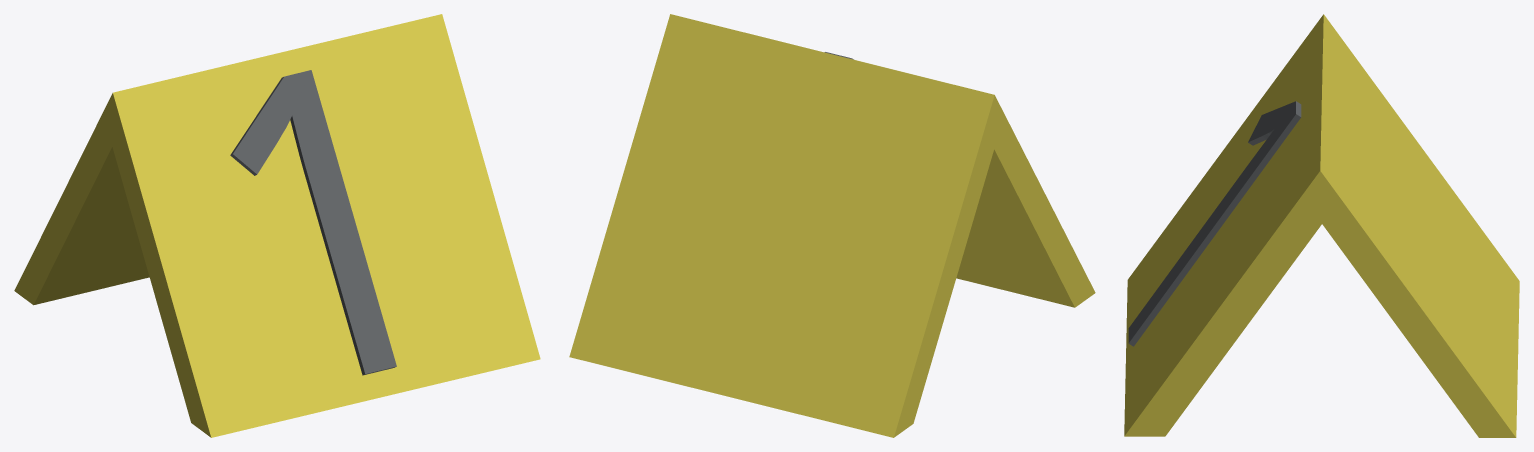
The model's file is bord1.gltf.
3 views of the same model, side by side, from view 1: azimuth 30°, elevation 25°; view 2: azimuth 150°, elevation 25°; view 3: azimuth 270°, elevation 25° (orthographic).
Parts seen in each view (by area): view 1: Mesh_Mesh_head_geo.001_lambert2SG.001; view 2: Mesh_Mesh_head_geo.001_lambert2SG.001; view 3: Mesh_Mesh_head_geo.001_lambert2SG.001.
Part boxes in pixels (box(x1,y1,x2,y2)): Mesh_Mesh_head_geo.001_lambert2SG.001: box(14, 14, 540, 437); Mesh_Mesh_head_geo.001_lambert2SG.001: box(569, 14, 1095, 437); Mesh_Mesh_head_geo.001_lambert2SG.001: box(1124, 14, 1519, 437).
Size of the model in its own units: 19.09 by 15 by 20.17.
